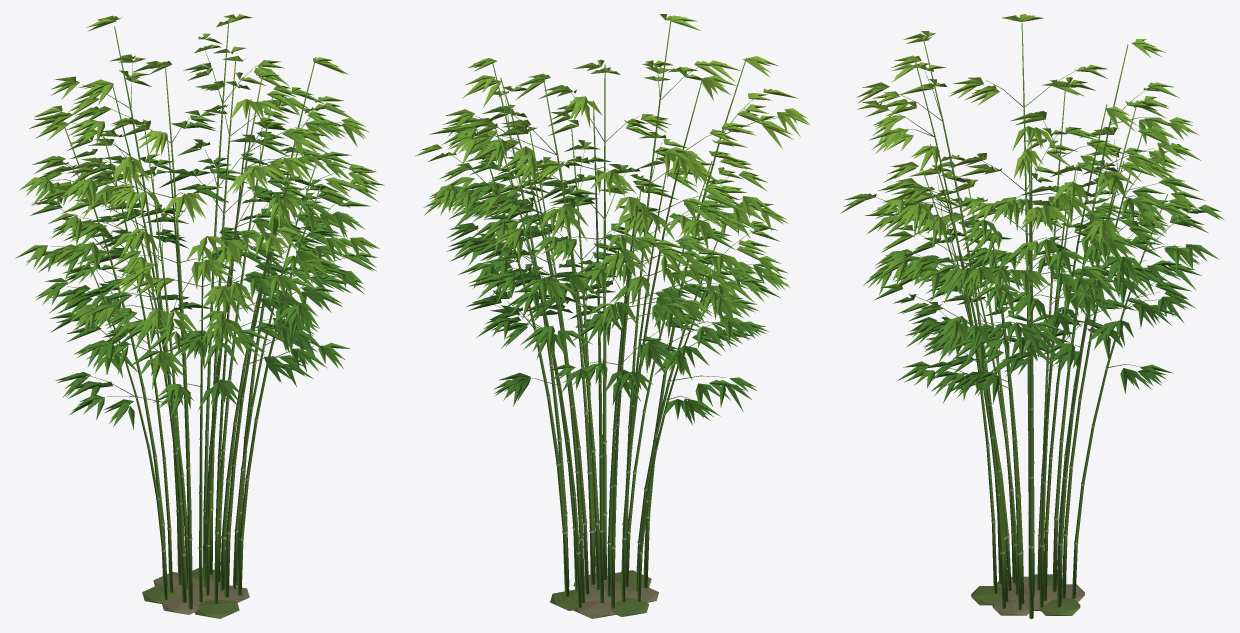
The model's file is bamboo.glb.
3 views of the same model, side by side, from view 1: azimuth 30°, elevation 25°; view 2: azimuth 150°, elevation 25°; view 3: azimuth 270°, elevation 25° (orthographic).
Visible parts, largest first — view 1: bamboo; view 2: bamboo; view 3: bamboo.
Part boxes in pixels (x1,y1,x2,y2): bamboo: (15, 14, 384, 618); bamboo: (415, 14, 809, 618); bamboo: (840, 14, 1224, 618).
Bounding box in the file's own units: 8.42 × 13.93 × 8.97.
